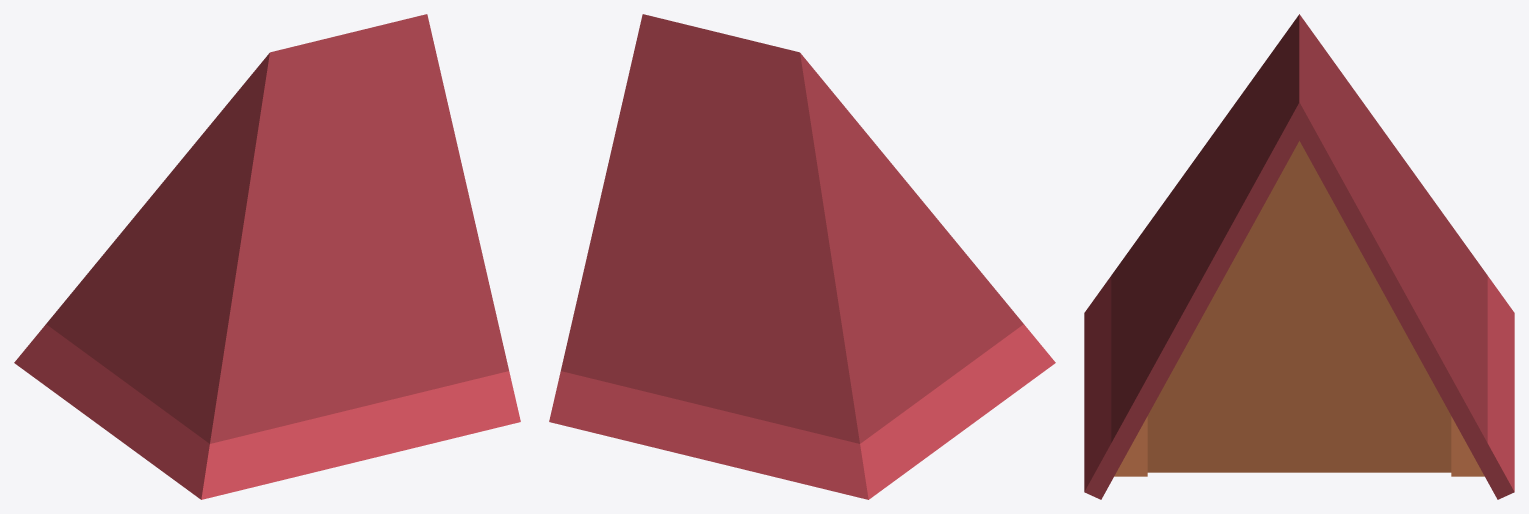
File: roofHighGableEnd.fbx
3 renders of one model, left to right at view 1: azimuth 30°, elevation 25°; view 2: azimuth 150°, elevation 25°; view 3: azimuth 270°, elevation 25°, orthographic. The views are drawn at different scales.
Parts seen in each view (by area): view 1: roofHighGableEnd; view 2: roofHighGableEnd; view 3: roofHighGableEnd.
Part boxes in pixels (<box>): roofHighGableEnd: <box>14,14,520,499</box>; roofHighGableEnd: <box>549,14,1055,499</box>; roofHighGableEnd: <box>1084,14,1514,499</box>.
Size of the model in its own units: 11.18 by 11.57 by 11.34.
